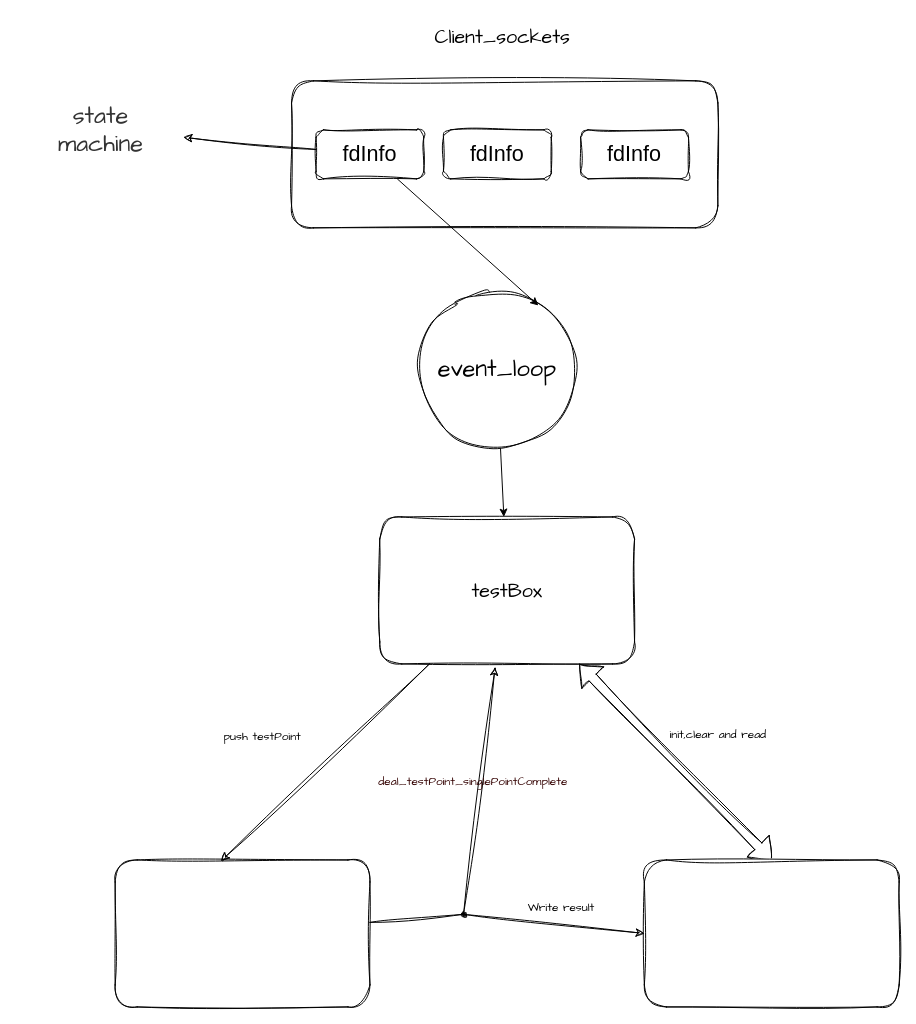
Image size: 916x1024. Some labels were removed from this diagram. Here are the shapes that lost their labels. From the top down, the centre of each, then its label:
At (242,933): "testPointBox".
At (771,933): "resultContainer".
